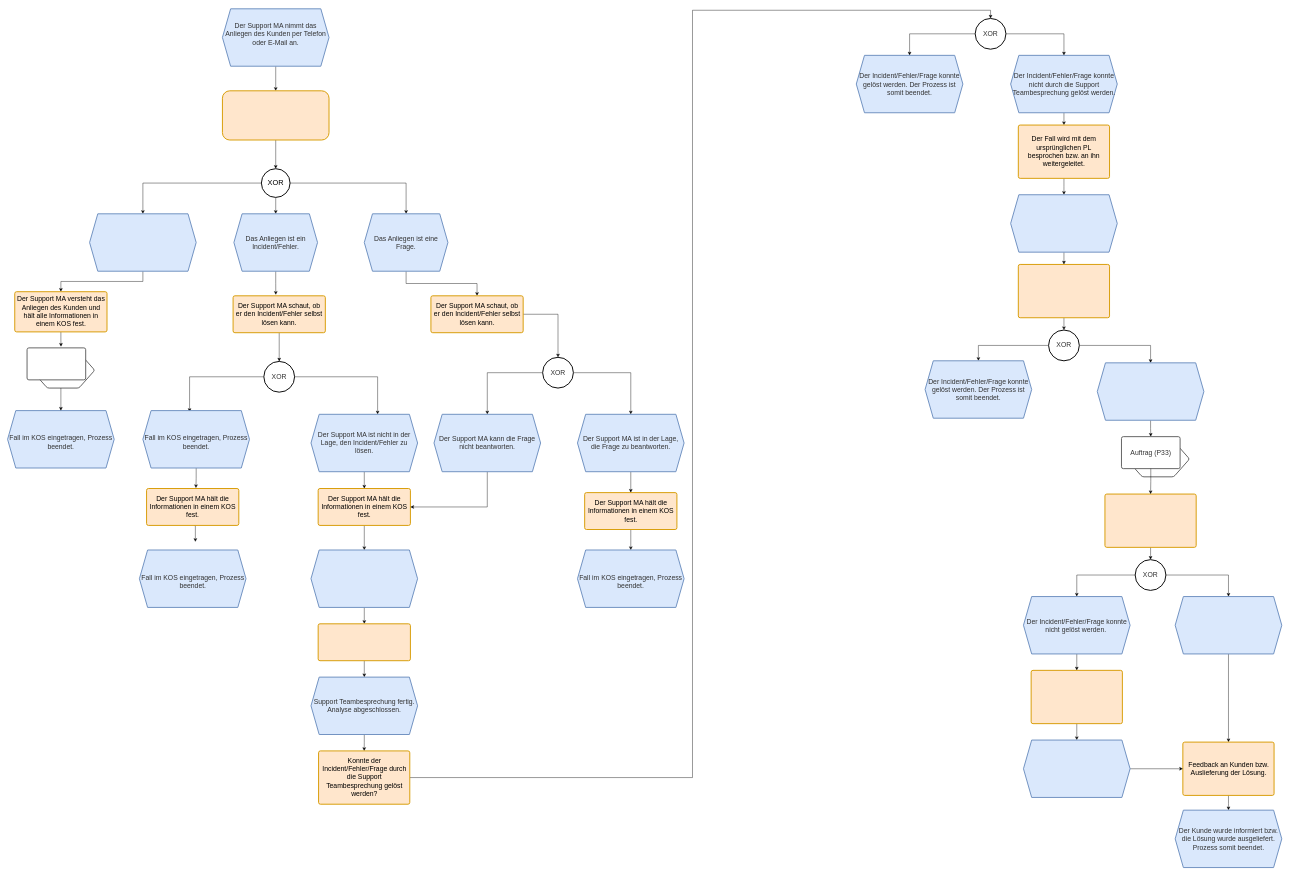
Image size: 1289x875. Some labels were removed from this diagram. The shapes that lost their labels are listed below. From the top down, each one's centre as x and y in pixels, then its label:
At (x=275, y=115): "Der Support MA teilt das Anliegen in eines der Folgenden drei Bereiche ein:".
At (x=142, y=242): "Das Anliegen ist eine Neuanforderung.".
At (x=1064, y=223): "Der ursprüngliche PL wurde eingeschalten.".
At (x=1064, y=291): "Konnte der Incident/Fehler/Frage durch den PL gelöst werden?".
At (x=56, y=363): "Individual (P31) Standard (P32)".
At (x=1150, y=391): "Der Incident/Fehler/Frage konnte nicht durch den PL gelöst werden.".
At (x=1150, y=520): "Konnte der Incident/Fehler/Frage gelöst werden?".
At (x=364, y=578): "Fall im KOS eingetragen".
At (x=364, y=642): "Der Fall wird in Support Teambesprechung analysiert".
At (x=1228, y=625): "Der Incident/Fehler/Frage konnte gelöst werden.".
At (x=1076, y=697): "Support MA, PL und Entwicklung suchen nach Alternative/Lösung".
At (x=1076, y=768): "Alternative/Lösung gefunden.".
